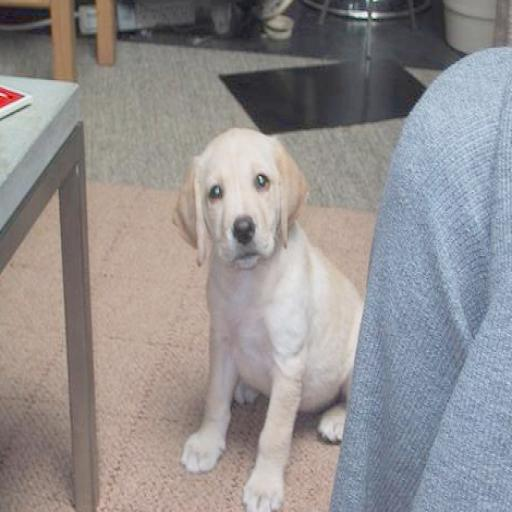dog_face: (172, 133, 304, 268)
